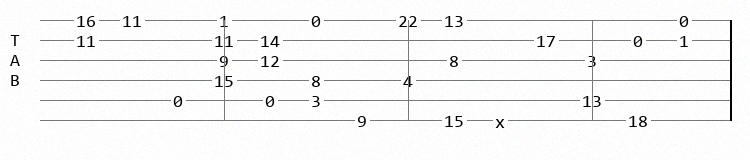0: (173, 93, 187, 108), (265, 93, 279, 108), (311, 13, 325, 28), (633, 33, 647, 48), (679, 13, 693, 28)
1: (219, 13, 233, 28), (679, 33, 693, 48)
11: (76, 33, 100, 48), (122, 13, 146, 28), (214, 33, 238, 48)
12: (260, 53, 284, 68)
13: (444, 13, 468, 28), (582, 93, 606, 108)
14: (260, 33, 284, 48)
15: (214, 73, 238, 88), (444, 113, 468, 128)
16: (76, 13, 100, 28)
17: (536, 33, 560, 48)
18: (628, 113, 652, 128)
22: (398, 13, 422, 28)
3: (311, 93, 325, 108), (587, 53, 601, 68)
4: (403, 73, 417, 88)
8: (311, 73, 325, 88), (449, 53, 463, 68)
9: (219, 53, 233, 68), (357, 113, 371, 128)
x: (495, 114, 509, 127)
